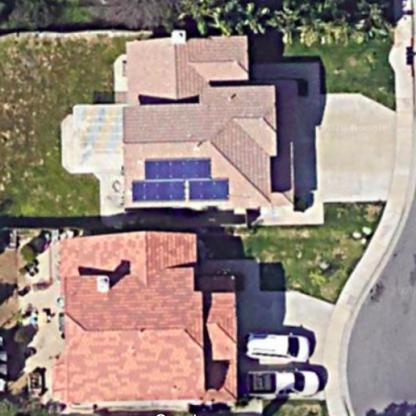car: (236, 324, 316, 362), (239, 363, 325, 396)
solar_panel: (123, 152, 234, 203)
